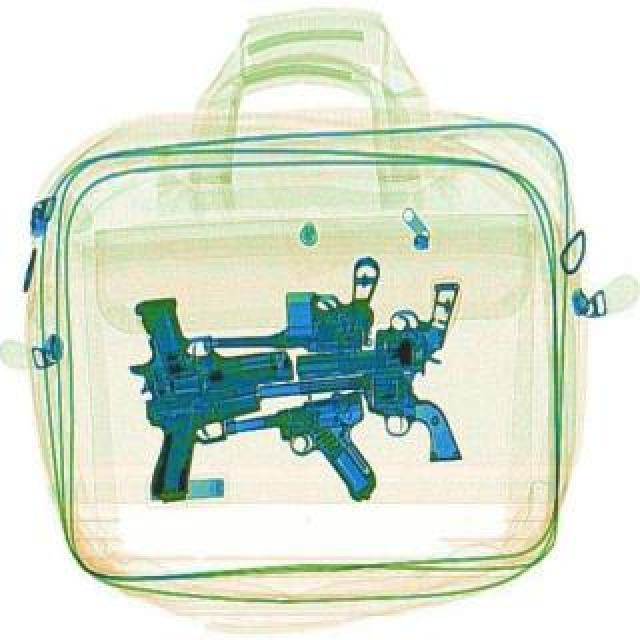gun: (256, 364, 464, 476), (116, 280, 296, 408), (218, 382, 382, 520), (134, 376, 274, 504), (204, 256, 380, 354), (290, 280, 462, 376)
